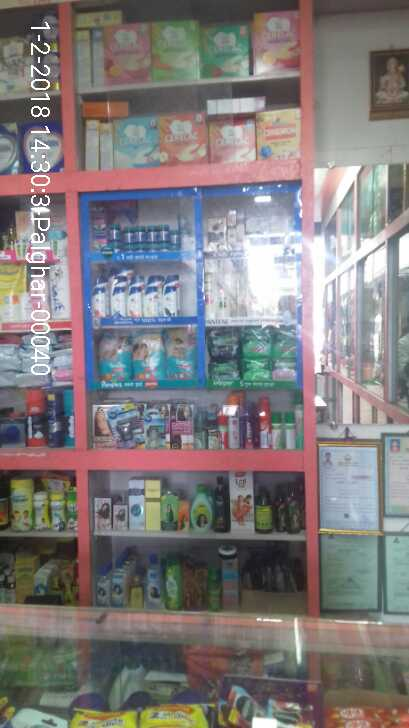vicks: (91, 204, 188, 251)
